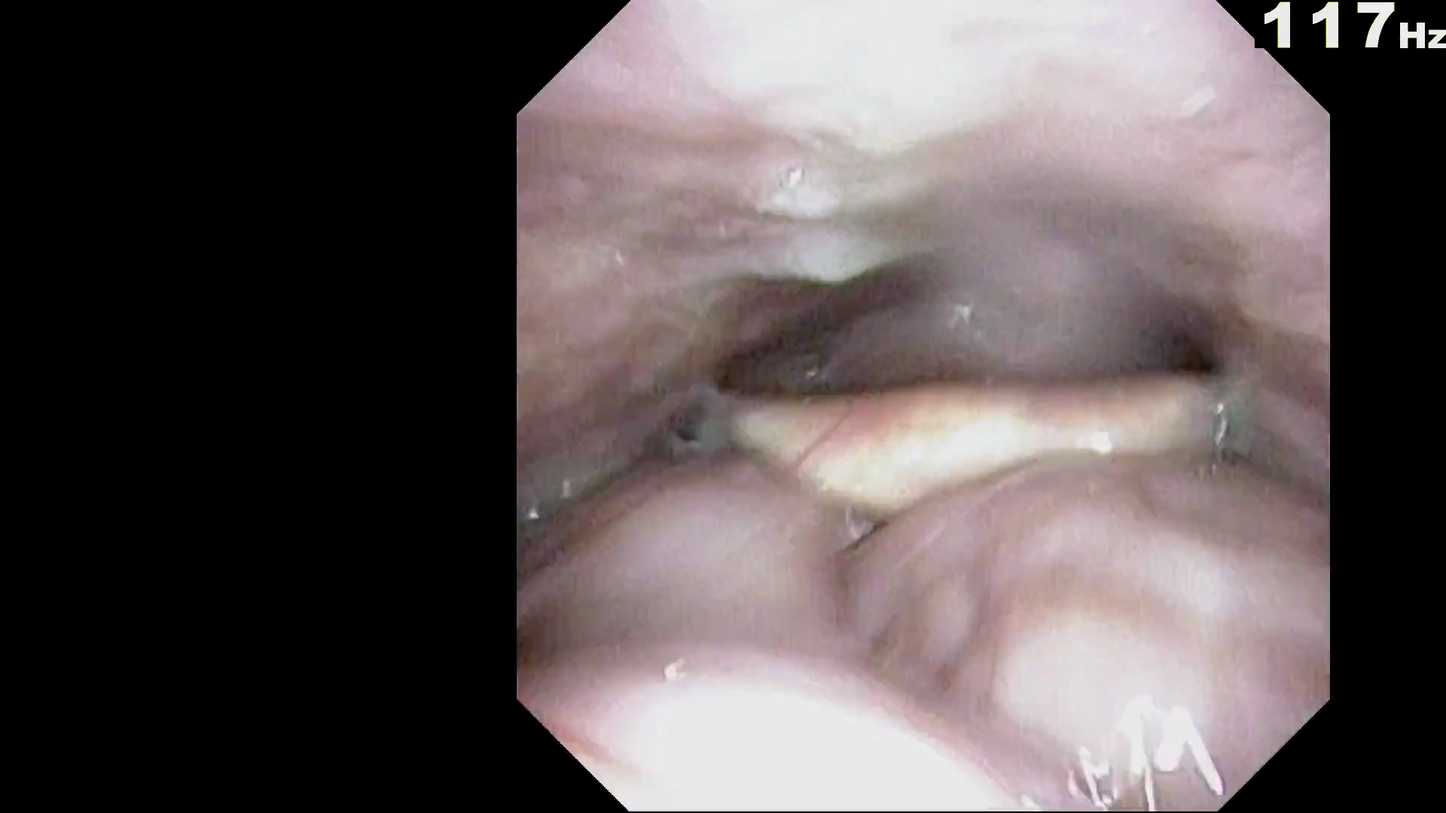epiglottis: (668, 406, 1254, 612)
